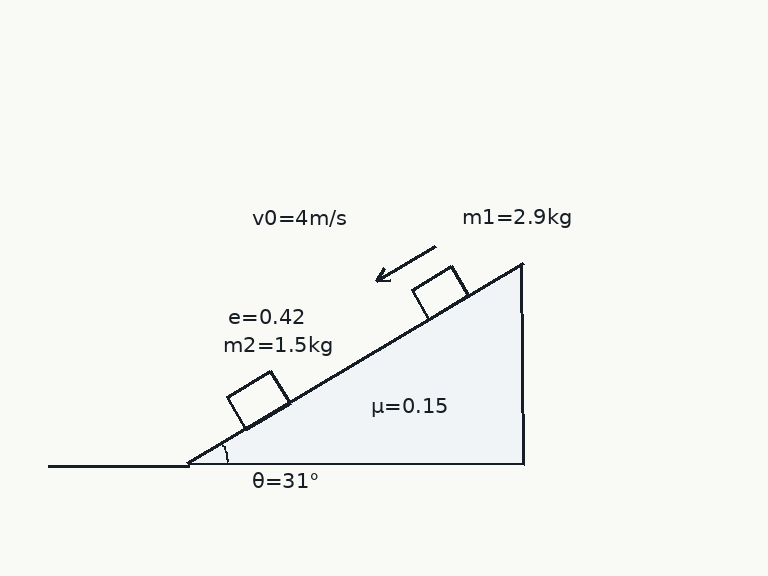block: (225, 369, 292, 431), (409, 264, 471, 321)
ramp: (186, 261, 524, 466)
